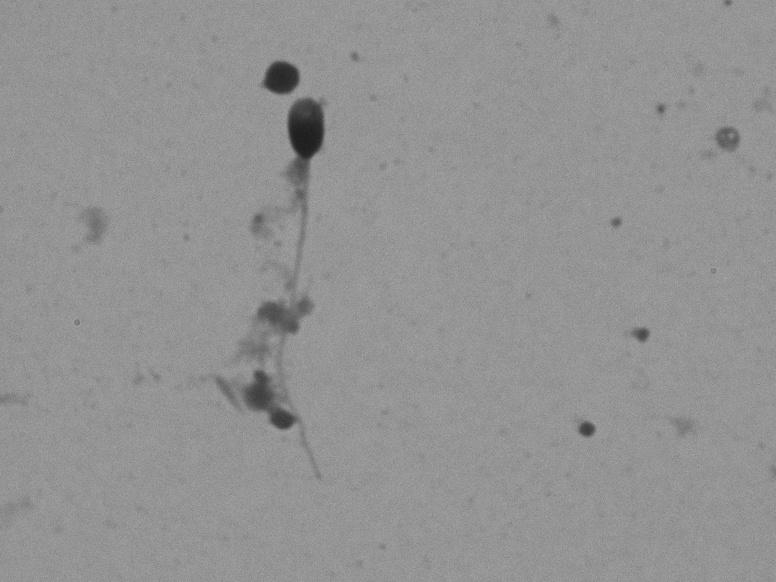Abnormal: (247, 92, 373, 496)
